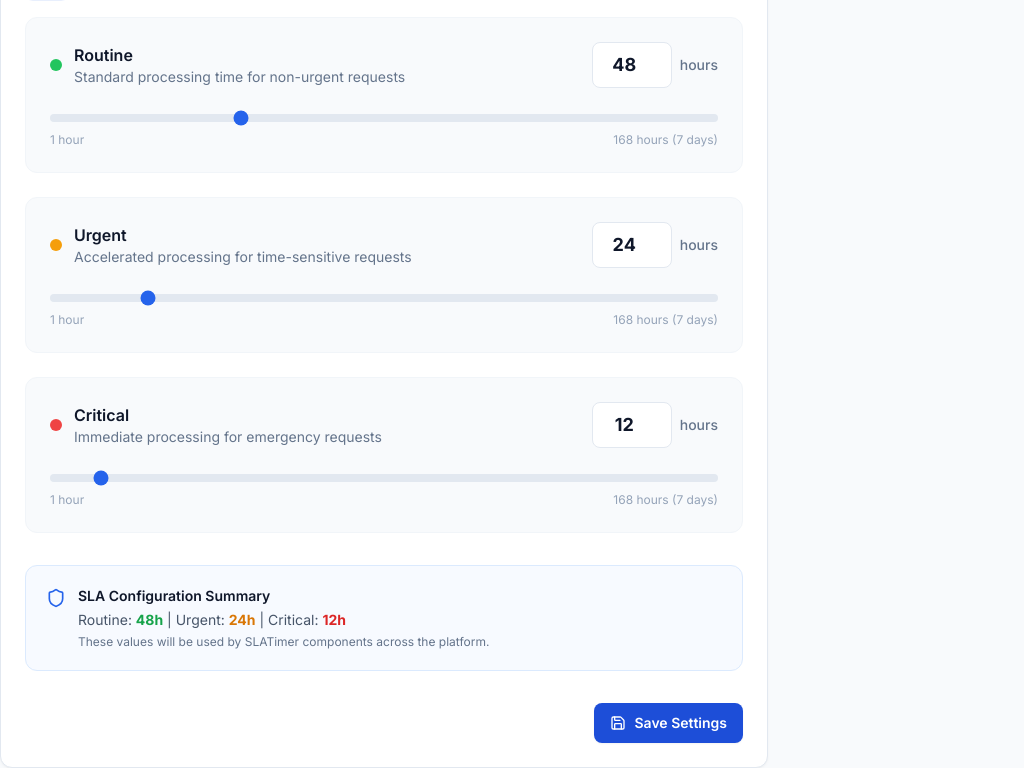
Test: AdminSettings › shows error toast when save fails
(page scrolled)
Click the button "Save Settings". click: click(669, 723)
box: [594,703,743,743]
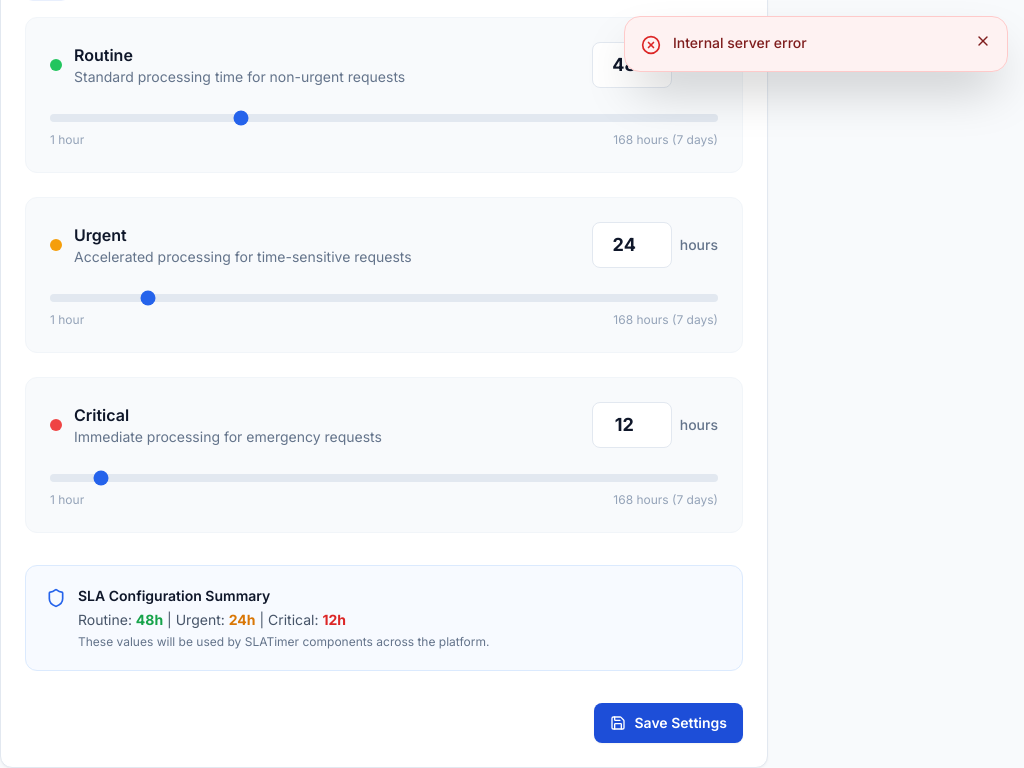
Now the text "Internal server error" is shown, box [673,34,807,51]
